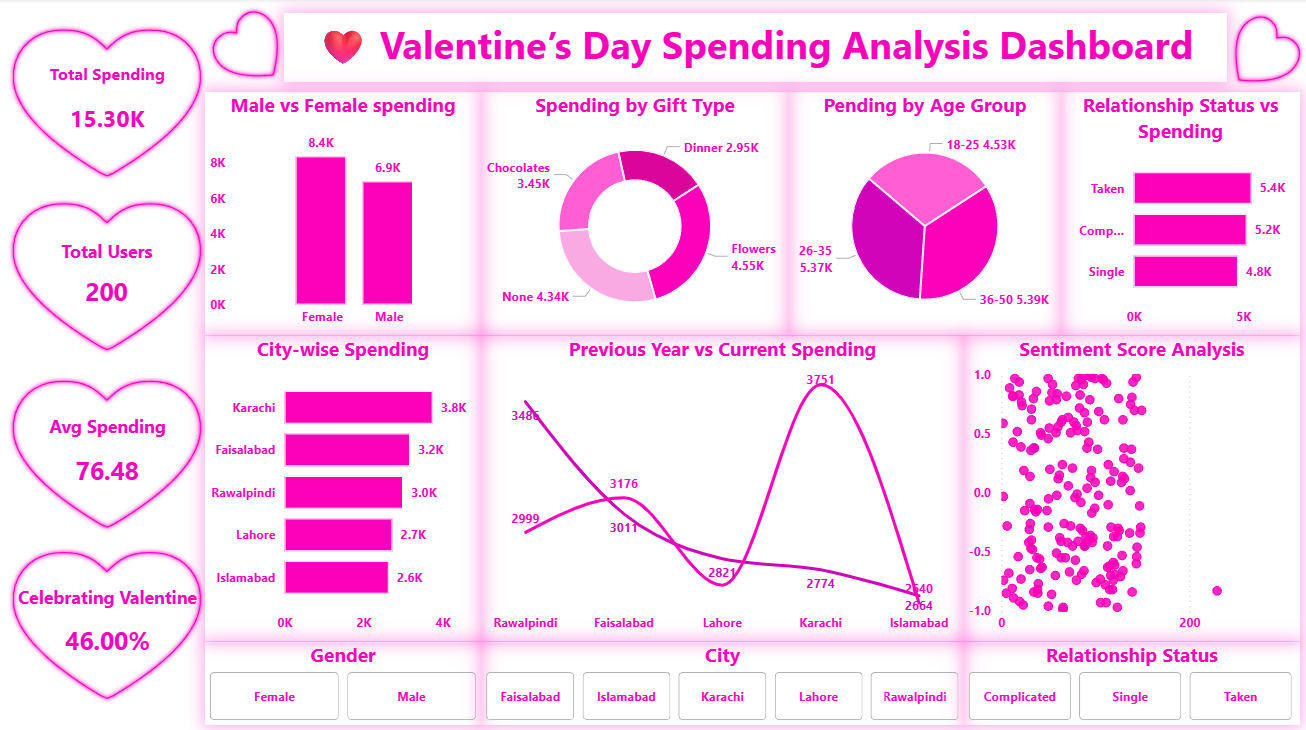

This screenshot's page, from the dashboard's own definition file:
{"tool":"powerbi","page":{"name":"❤️ Valentine’s Day Spending Analysis Dashboard","canvas":[1280,720],"ordinal":0},"visuals":[{"type":"cardVisual","title":"Total Spending","fields":{"Data":["Sum(valentines_day_spending_dataset.spending_usd)"]},"box":[41.6,62.4,127.2,80.7],"z":0},{"type":"cardVisual","title":"Total Users","fields":{"Data":["Count(valentines_day_spending_dataset.user_id)"]},"box":[47.7,236,113.7,73.4],"z":1000},{"type":"cardVisual","title":"Avg Spending","fields":{"Data":["Avg(valentines_day_spending_dataset.spending_usd)"]},"box":[31.8,407.2,146.7,79.5],"z":2000},{"type":"cardVisual","title":"Celebrating Valentine","fields":{"Data":["valentines_day_spending_dataset.% Celebrating Valentine"]},"box":[15.9,574.7,178.5,78.3],"z":3000},{"type":"shape","box":[8.6,26.9,192,151.6],"z":4000},{"type":"shape","box":[178.5,6.1,123.5,75.8],"z":6000},{"type":"shape","box":[8.6,196.9,192,151.6],"z":7000},{"type":"shape","box":[8.6,370.5,192,151.6],"z":8000},{"type":"shape","box":[8.6,538,192,151.6],"z":9000},{"type":"clusteredColumnChart","title":"Male vs Female spending","fields":{"Category":["valentines_day_spending_dataset.gender"],"Y":["Sum(valentines_day_spending_dataset.spending_usd)"]},"box":[200.5,91.7,270.2,238.5],"z":10000},{"type":"donutChart","title":"Spending by Gift Type","fields":{"Category":["valentines_day_spending_dataset.gift_type"],"Y":["Sum(valentines_day_spending_dataset.spending_usd)"]},"box":[470.8,91.7,300.8,238.5],"z":11000},{"type":"pieChart","title":"Pending by Age Group","fields":{"Category":["valentines_day_spending_dataset.Age Group"],"Y":["Sum(valentines_day_spending_dataset.spending_usd)"]},"box":[771.6,91.7,266.6,238.5],"z":12000},{"type":"barChart","title":"Relationship Status vs Spending","fields":{"Category":["valentines_day_spending_dataset.relationship_status"],"Y":["Sum(valentines_day_spending_dataset.spending_usd)"]},"box":[1038.2,91.7,233.6,238.5],"z":12001},{"type":"clusteredBarChart","title":"City-wise Spending","fields":{"Category":["valentines_day_spending_dataset.city"],"Y":["Sum(valentines_day_spending_dataset.spending_usd)"]},"box":[200.5,330.2,270.2,299.6],"z":12002},{"type":"lineChart","title":"Previous Year vs Current Spending","fields":{"Y":["Sum(valentines_day_spending_dataset.previous_year_spending)"],"Y2":["Sum(valentines_day_spending_dataset.spending_usd)"],"Category":["valentines_day_spending_dataset.city"]},"box":[470.8,330.2,472,299.6],"z":12003},{"type":"scatterChart","title":"Sentiment Score Analysis","fields":{"X":["Sum(valentines_day_spending_dataset.spending_usd)"],"Y":["Sum(valentines_day_spending_dataset.sentiment_score)"],"Category":["valentines_day_spending_dataset.spending_usd"]},"box":[942.8,330.2,328.9,299.6],"z":12004},{"type":"shape","box":[1199.6,11,80.7,75.8],"z":12005},{"type":"advancedSlicerVisual","title":"Gender","fields":{"Values":["valentines_day_spending_dataset.gender"]},"box":[200.5,629.8,270.2,81.9],"z":12006},{"type":"advancedSlicerVisual","title":"City","fields":{"Values":["valentines_day_spending_dataset.city"]},"box":[470.8,629.8,472,81.9],"z":12007},{"type":"advancedSlicerVisual","title":"Relationship Status","fields":{"Values":["valentines_day_spending_dataset.relationship_status"]},"box":[942.8,629.8,328.9,81.9],"z":12008},{"type":"textbox","box":[277.6,14.7,922,67.3],"z":12009}]}

Visuals, with their boxes in screenshot pixels (x1, y1, x2, y2), scaled from the page's 1280x720 canvas onto the 1306x730 screenshot:
"Total Spending" cardVisual: x1=42 y1=63 x2=172 y2=145
"Total Users" cardVisual: x1=49 y1=239 x2=165 y2=314
"Avg Spending" cardVisual: x1=32 y1=413 x2=182 y2=493
"Celebrating Valentine" cardVisual: x1=16 y1=583 x2=198 y2=662
shape: x1=9 y1=27 x2=205 y2=181
shape: x1=182 y1=6 x2=308 y2=83
shape: x1=9 y1=200 x2=205 y2=353
shape: x1=9 y1=376 x2=205 y2=529
shape: x1=9 y1=545 x2=205 y2=699
"Male vs Female spending" clusteredColumnChart: x1=205 y1=93 x2=480 y2=335
"Spending by Gift Type" donutChart: x1=480 y1=93 x2=787 y2=335
"Pending by Age Group" pieChart: x1=787 y1=93 x2=1059 y2=335
"Relationship Status vs Spending" barChart: x1=1059 y1=93 x2=1298 y2=335
"City-wise Spending" clusteredBarChart: x1=205 y1=335 x2=480 y2=639
"Previous Year vs Current Spending" lineChart: x1=480 y1=335 x2=962 y2=639
"Sentiment Score Analysis" scatterChart: x1=962 y1=335 x2=1298 y2=639
shape: x1=1224 y1=11 x2=1305 y2=88
"Gender" advancedSlicerVisual: x1=205 y1=639 x2=480 y2=722
"City" advancedSlicerVisual: x1=480 y1=639 x2=962 y2=722
"Relationship Status" advancedSlicerVisual: x1=962 y1=639 x2=1298 y2=722
textbox: x1=283 y1=15 x2=1224 y2=83
